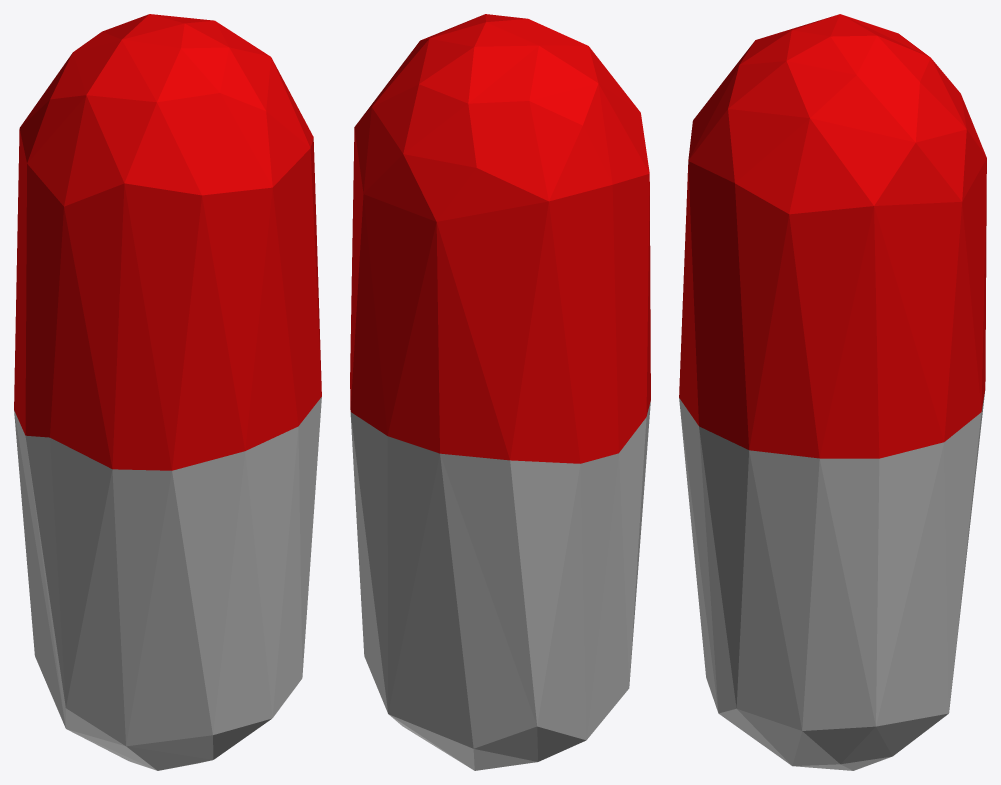
The model's file is pill.fbx.
The picture shows the model from 3 angles, left to right: view 1: azimuth 30°, elevation 25°; view 2: azimuth 150°, elevation 25°; view 3: azimuth 270°, elevation 25°; orthographic projection.
Parts seen in each view (by area): view 1: pill; view 2: pill; view 3: pill.
Part boxes in pixels (x1,y1,x2,y2): pill: (14,14,321,770); pill: (350,14,650,770); pill: (679,14,986,770).
Size of the model in its own units: 4.42 by 11.66 by 4.45.
